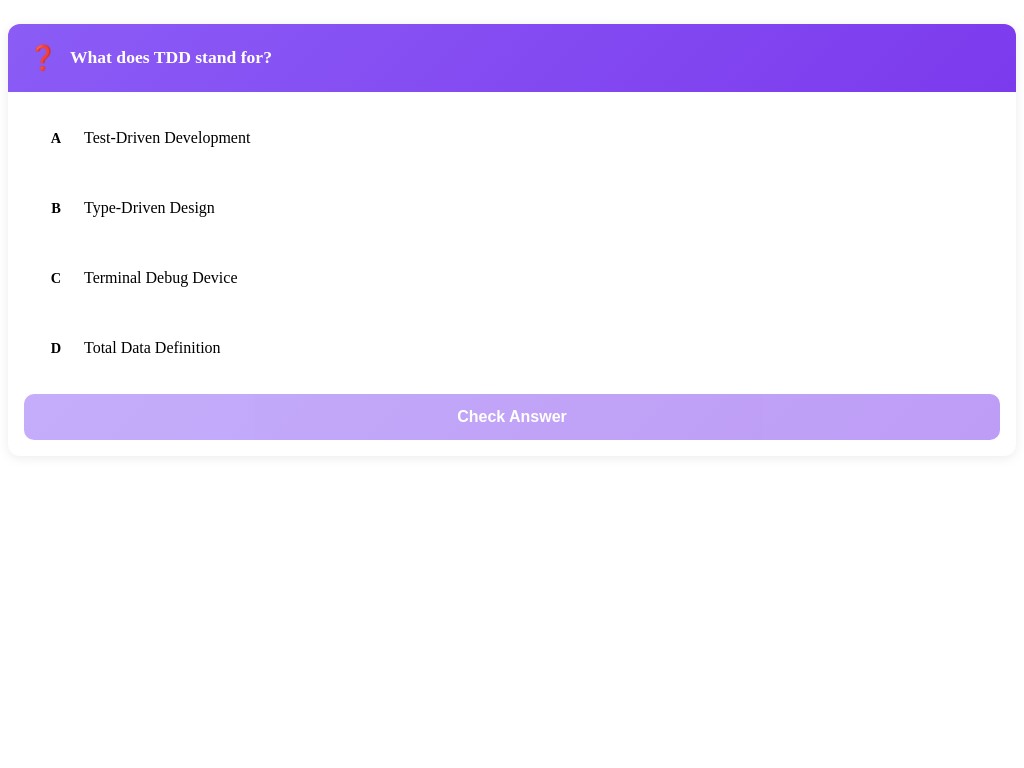
Test: Quiz Component › 🔴 RED: Interactive Features › should show correct feedback on correct answer
The width and height of the screenshot is (1024, 768).
Click the text "Test-Driven Development" at (167, 138), box left=84, top=129, right=250, bottom=146
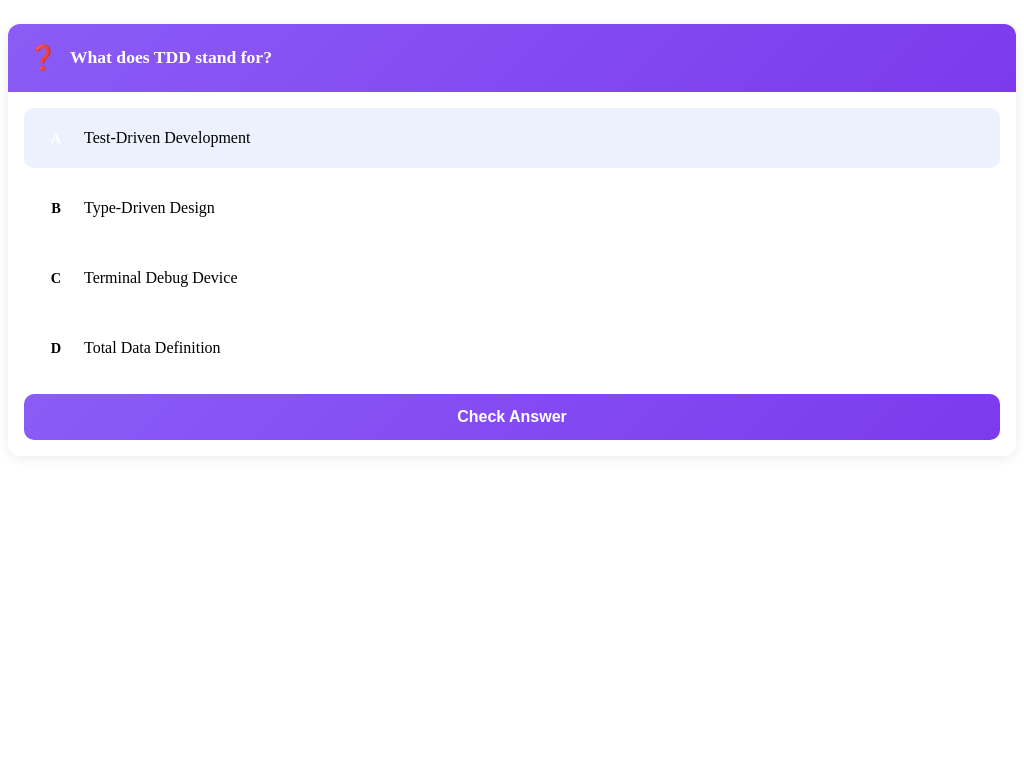
Click the button "Check Answer" at (512, 417), box left=24, top=394, right=1000, bottom=440
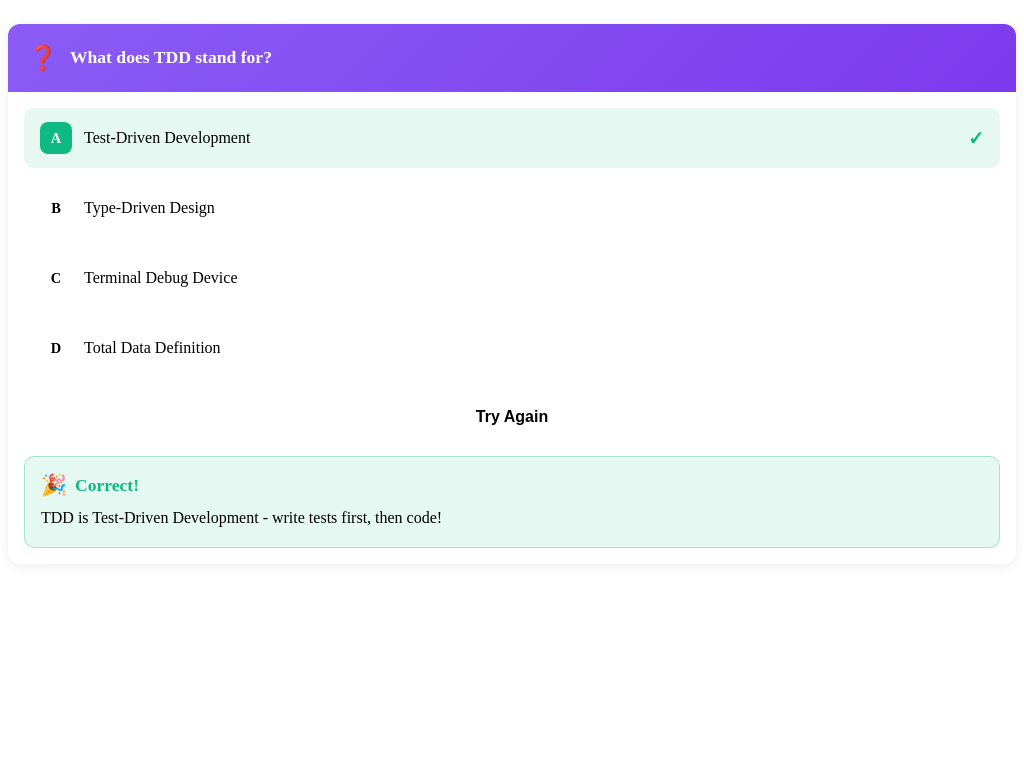
Expected: the text "Correct!" is shown, left=75, top=474, right=139, bottom=496
